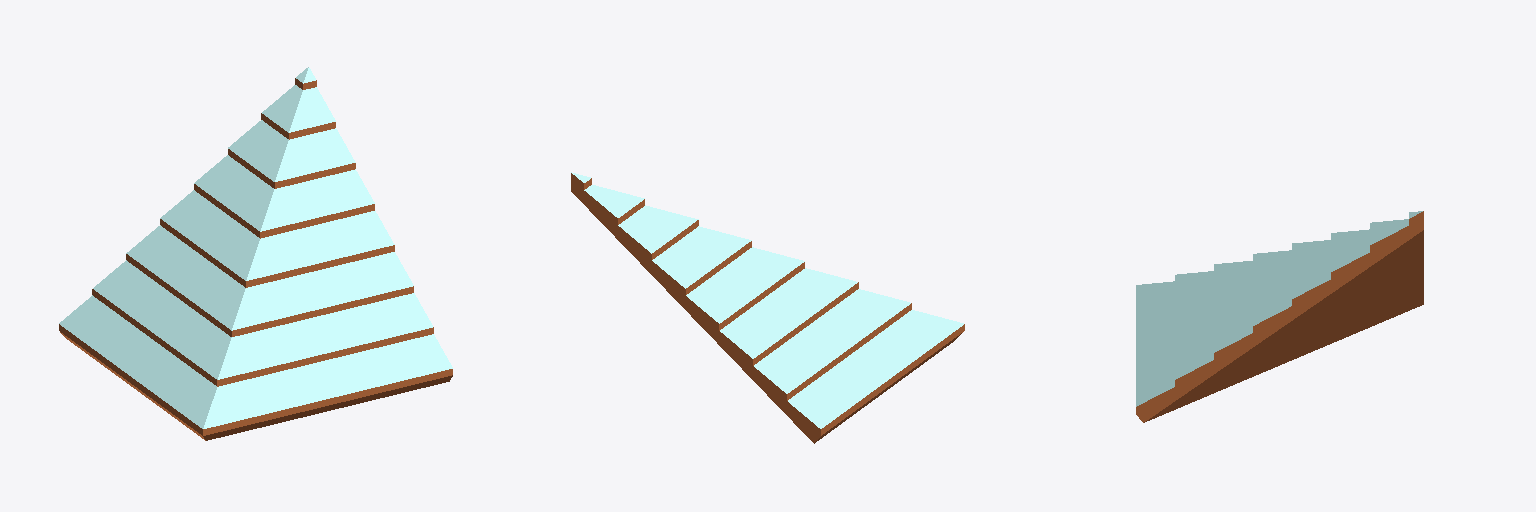
File: cabinRoofCorner.obj
3 renders of one model, left to right at view 1: azimuth 30°, elevation 25°; view 2: azimuth 150°, elevation 25°; view 3: azimuth 270°, elevation 25°, orthographic.
Visible parts, largest first — view 1: cabinRoofCorner; view 2: cabinRoofCorner; view 3: cabinRoofCorner.
Part boxes in pixels (bbox=[...]): cabinRoofCorner: bbox=[59, 67, 452, 440]; cabinRoofCorner: bbox=[571, 172, 964, 443]; cabinRoofCorner: bbox=[1136, 211, 1423, 422].
Size of the model in its own units: 1.12 by 0.9046 by 1.12.